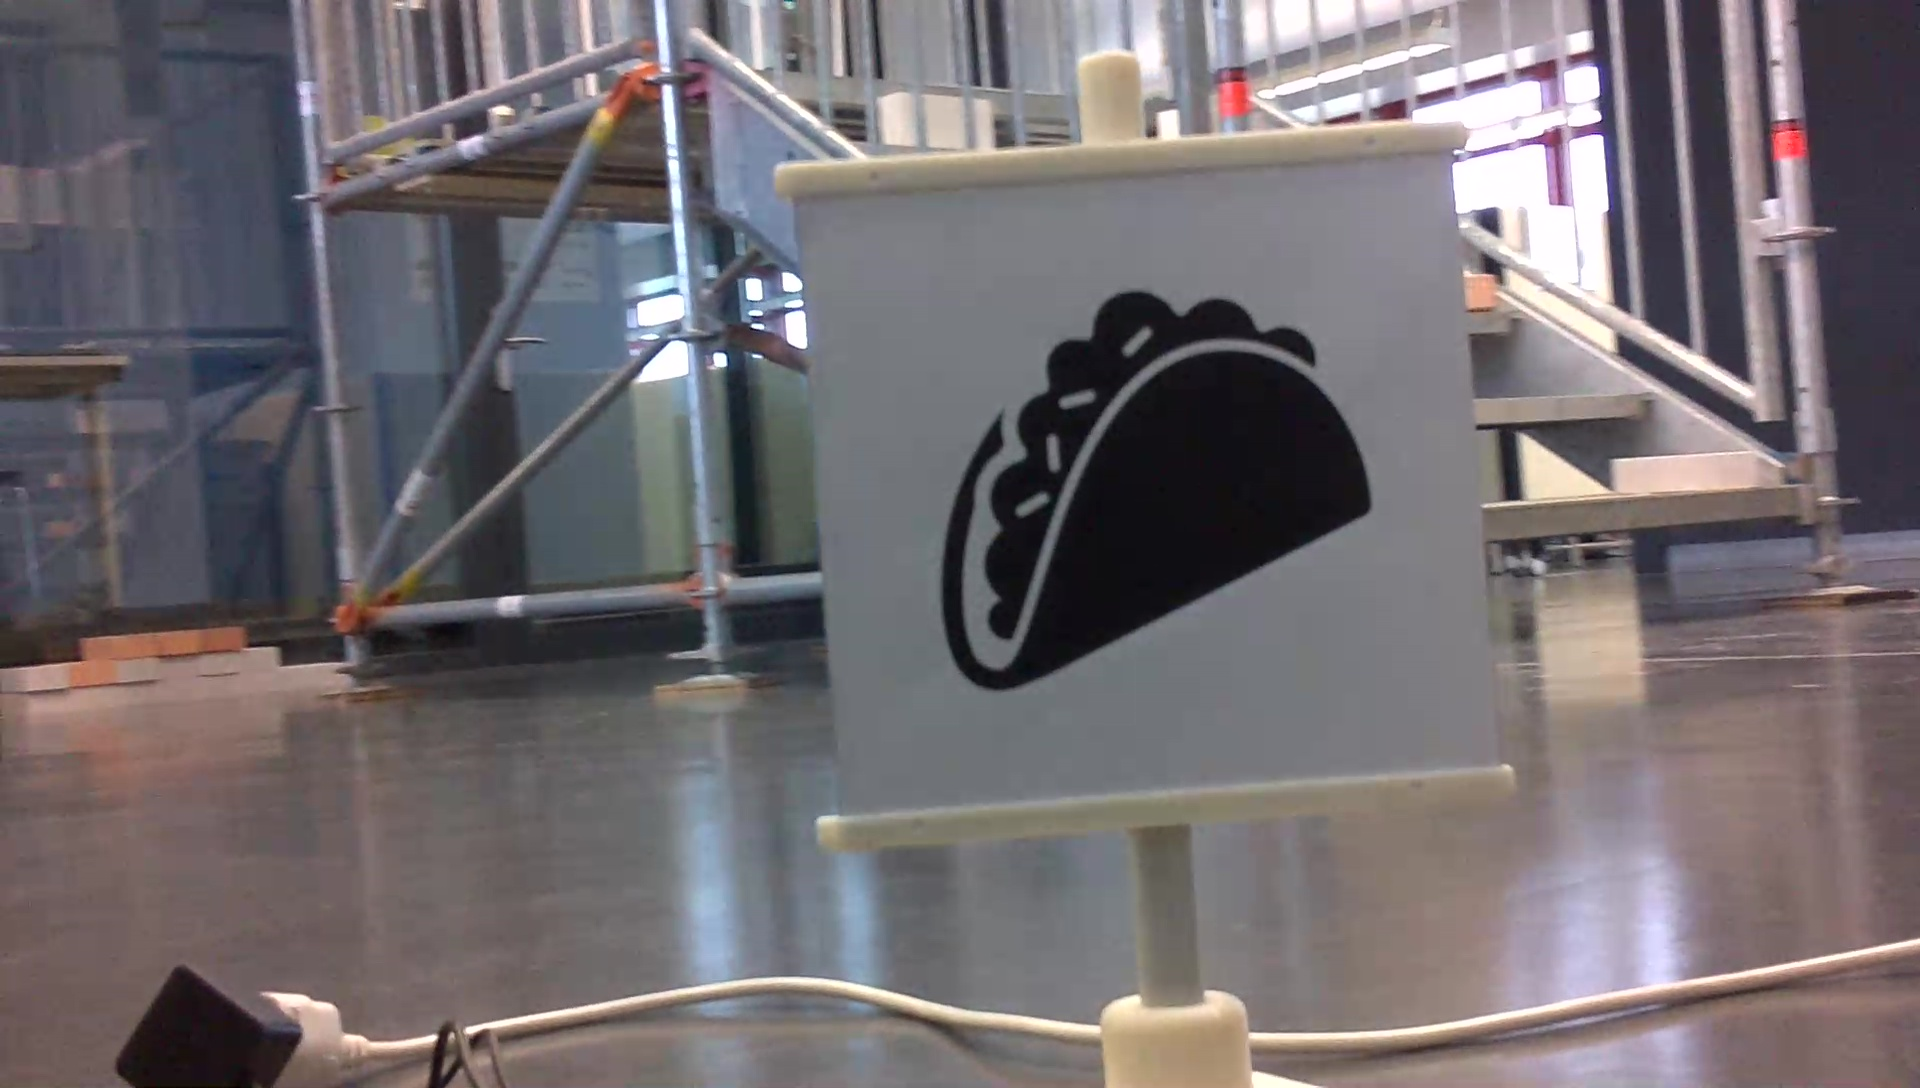brick: (1611, 448, 1755, 495)
taco: (926, 282, 1379, 702)
